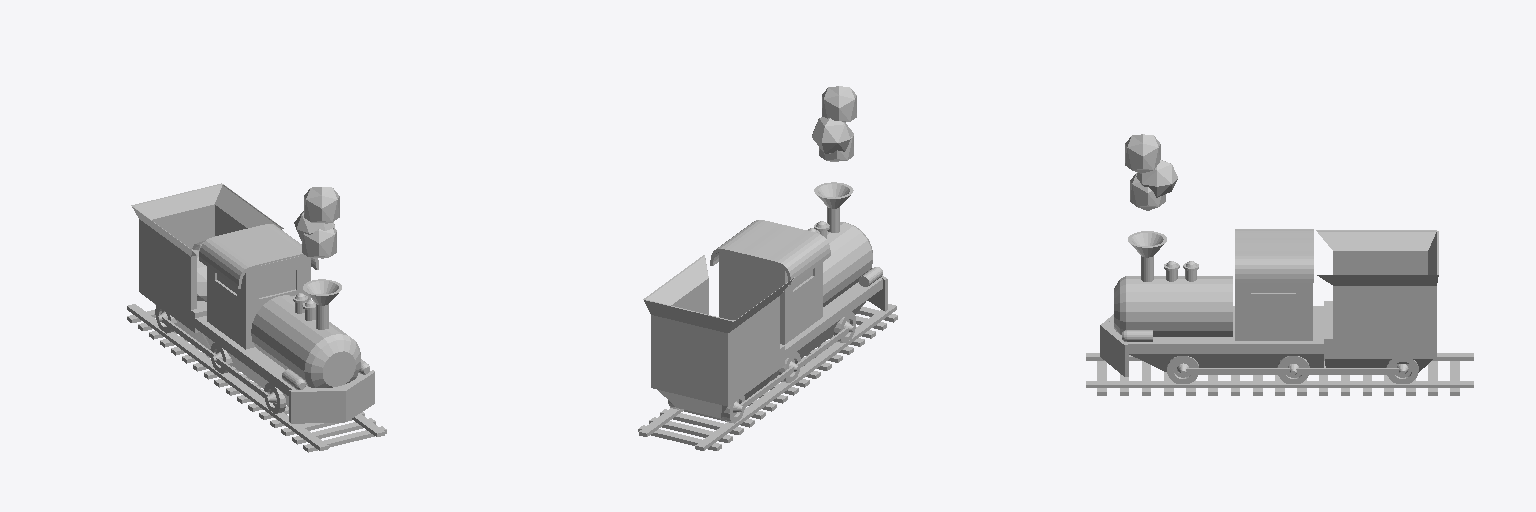
The model's file is Train.obj.
The picture shows the model from 3 angles: view 1: azimuth 30°, elevation 25°; view 2: azimuth 150°, elevation 25°; view 3: azimuth 270°, elevation 25°; orthographic projection.
Parts seen in each view (by area): view 1: GeoSphere002; view 2: GeoSphere002; view 3: GeoSphere002.
Part boxes in pixels (left/top/right/bottom): GeoSphere002: left=127, top=183, right=386, bottom=452; GeoSphere002: left=638, top=86, right=897, bottom=450; GeoSphere002: left=1086, top=134, right=1473, bottom=395.
Bounding box in the file's own units: 29.4 × 74.07 × 108.